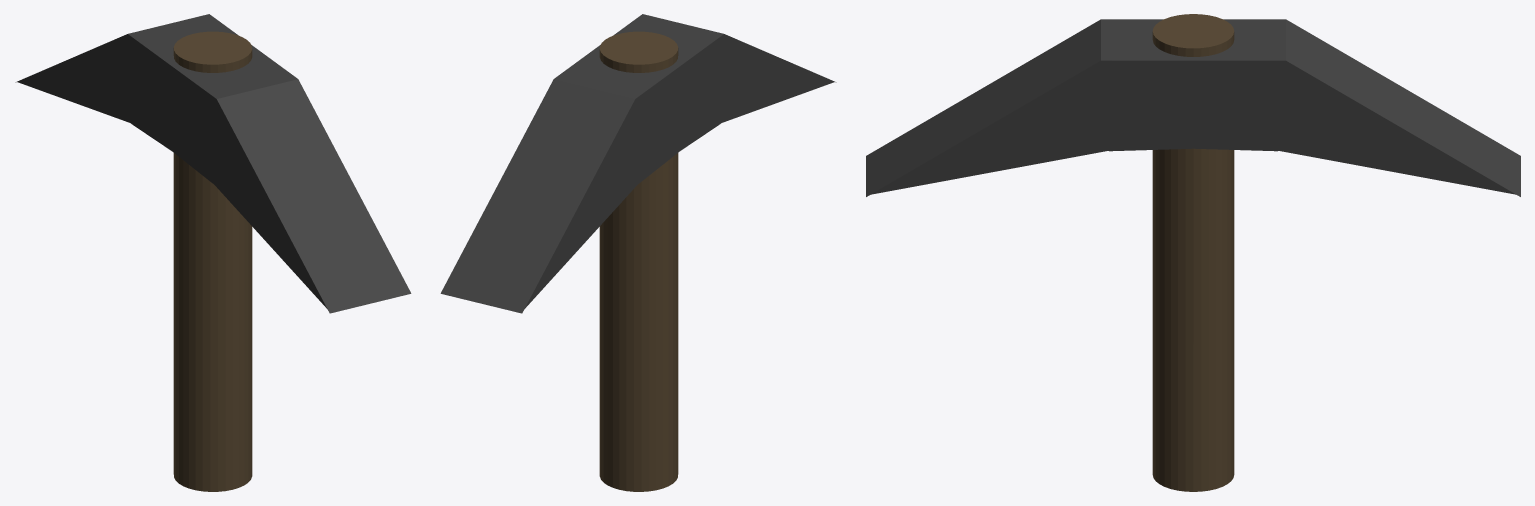
Rendered from pickaxe.fbx.
The picture shows the model from 3 angles, left to right: view 1: azimuth 30°, elevation 25°; view 2: azimuth 150°, elevation 25°; view 3: azimuth 270°, elevation 25°; orthographic projection. The views are drawn at different scales.
Visible parts, largest first — view 1: Cube, Cylinder; view 2: Cube, Cylinder; view 3: Cube, Cylinder.
Part boxes in pixels (x1,y1,x2,y2): Cube: [15, 14, 411, 313]; Cylinder: [173, 31, 252, 491]; Cube: [440, 14, 836, 313]; Cylinder: [599, 31, 678, 491]; Cube: [866, 19, 1520, 196]; Cylinder: [1152, 14, 1234, 491].
Size of the model in its own units: 120 by 600 by 803.
